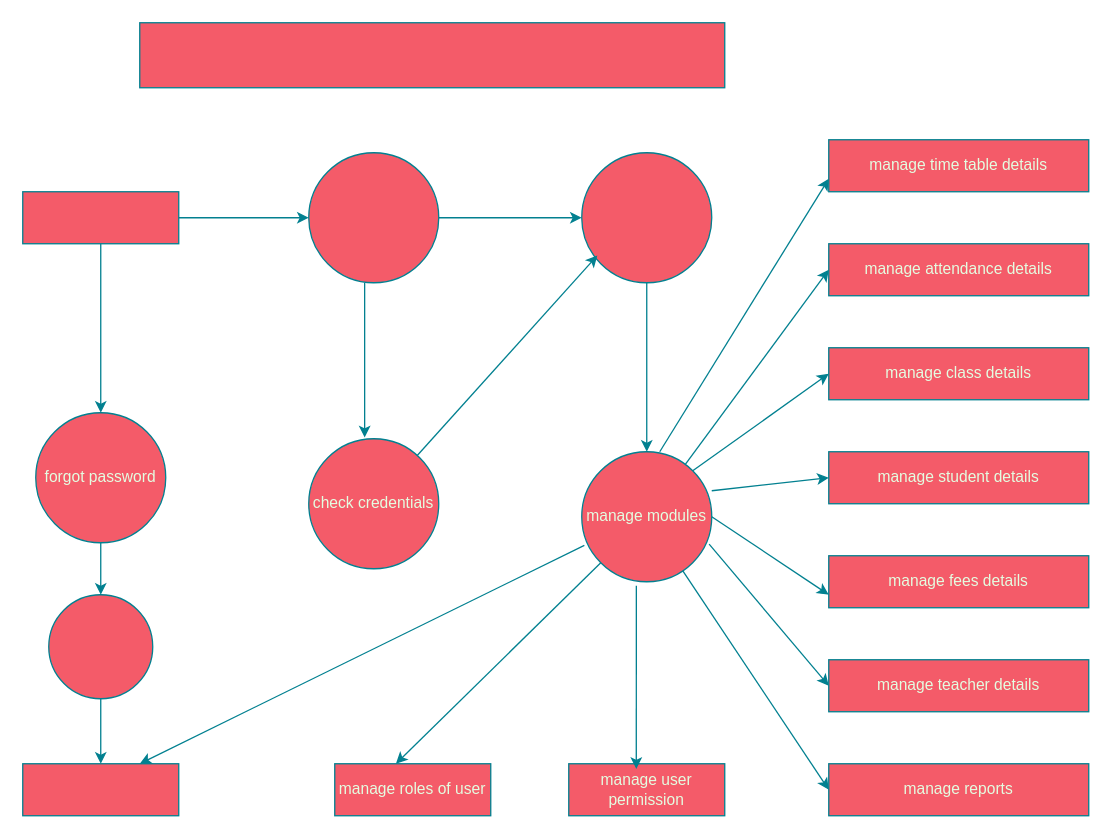
This 1112x838 diagram has some shape labels left out. Here are the shapes that lost their labels. From the top down, the centre of each, then its label:
point (431, 54): Student Information System
point (100, 217): Admin
point (373, 217): login to system
point (646, 217): check roles access
point (100, 646): send email to user
point (100, 789): manage system admin
